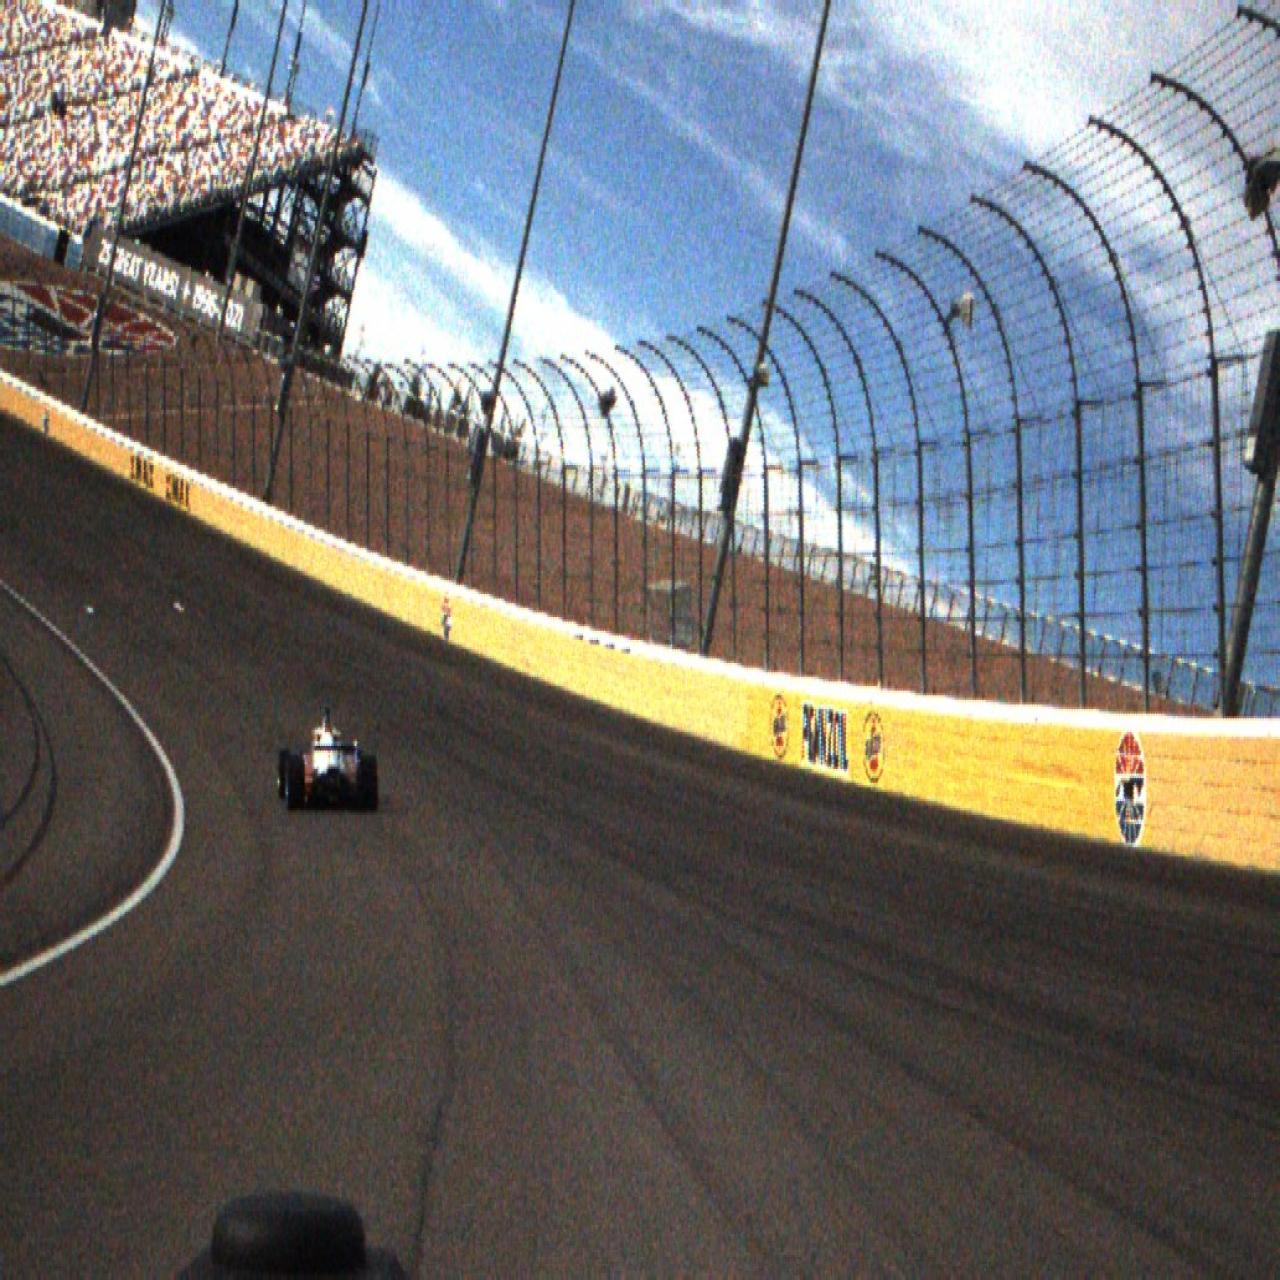AV: (277, 702, 379, 813)
Wheel: (286, 755, 305, 813), (361, 754, 379, 813), (278, 747, 292, 799)
